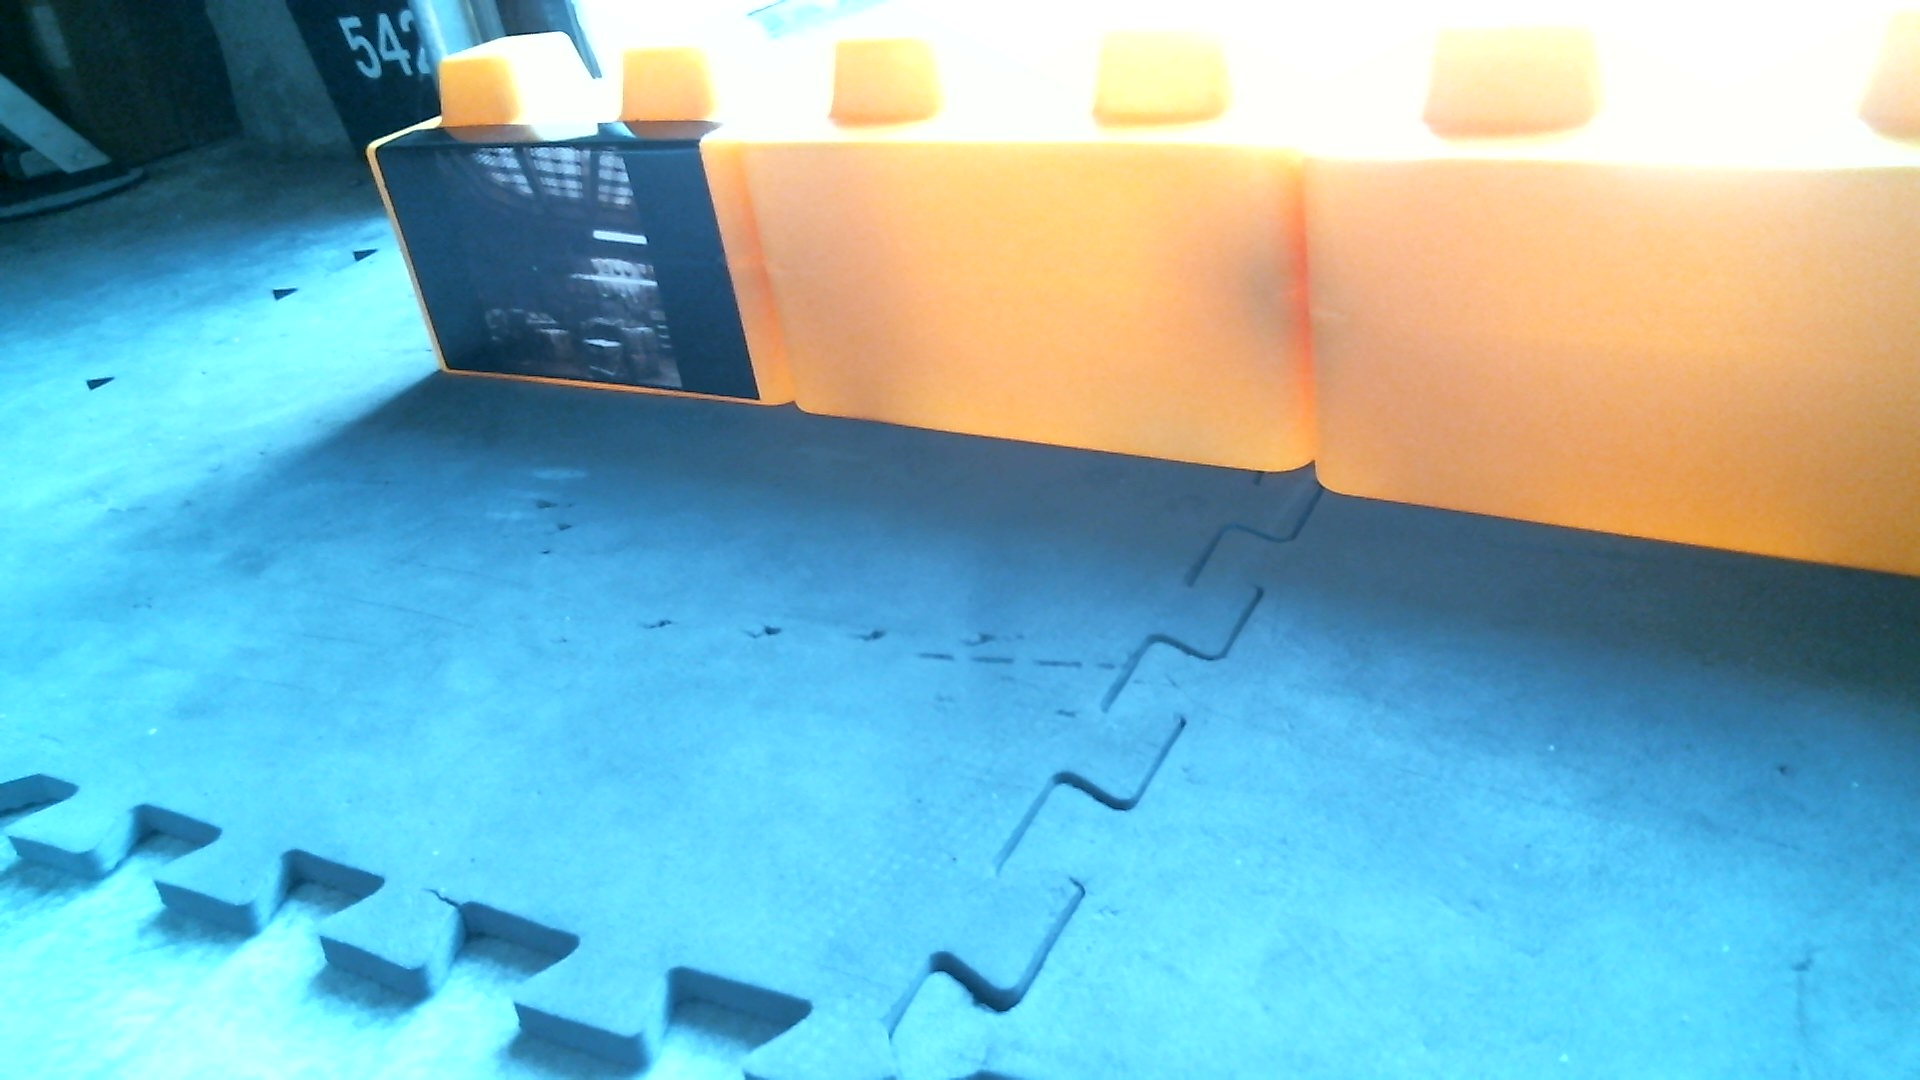left: (345, 42, 1920, 585)
